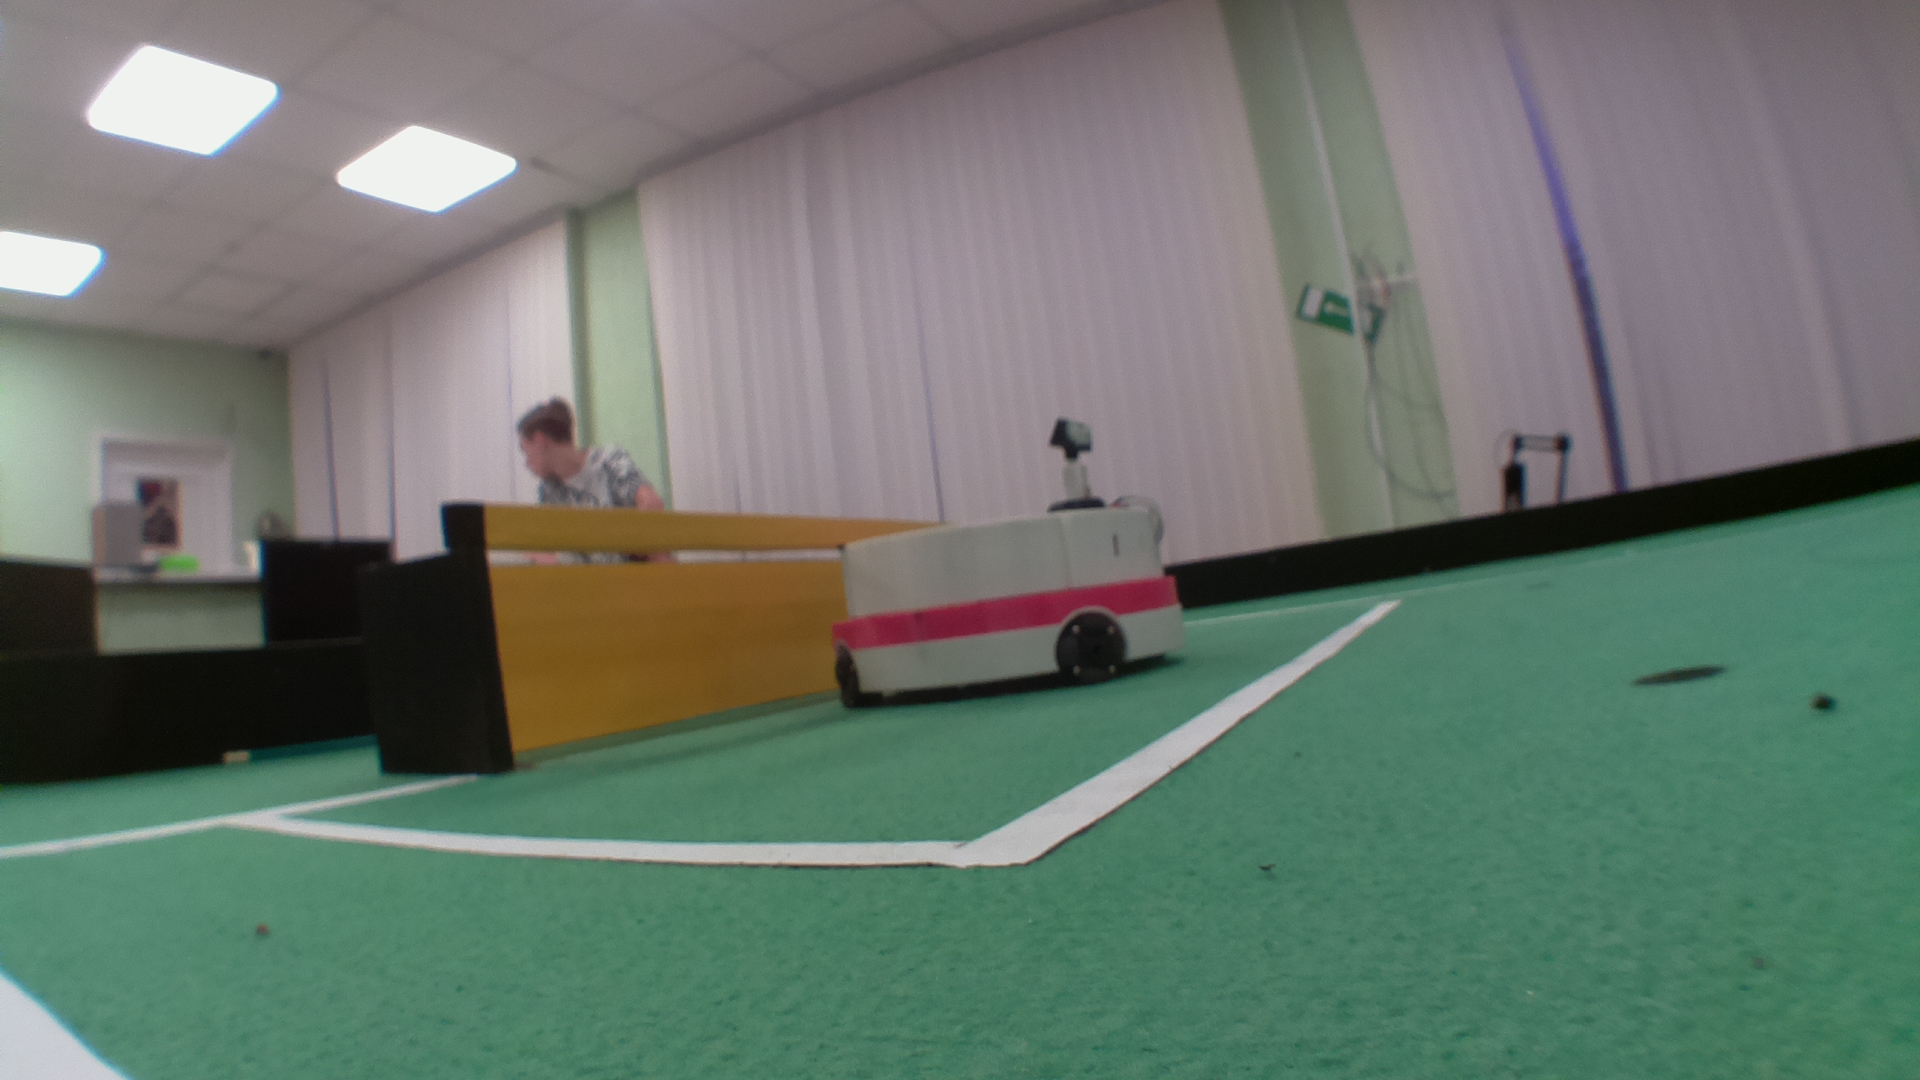YellowGoal: (476, 500, 858, 721)
